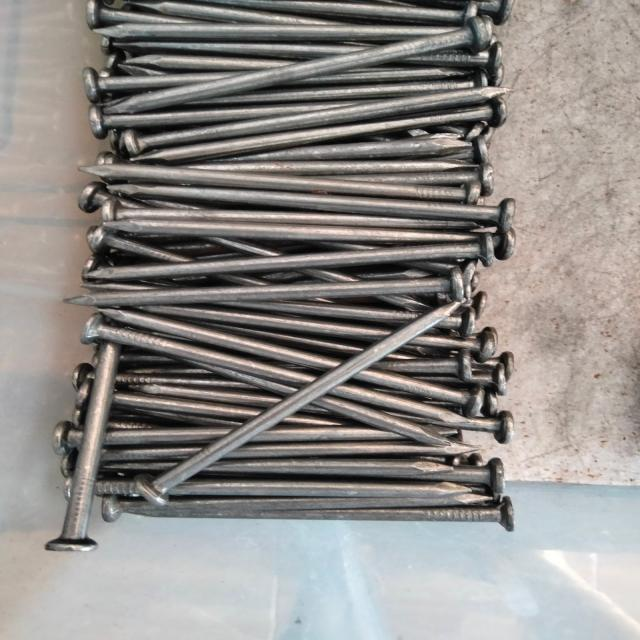3x8 nail: (126, 288, 482, 512), (74, 13, 507, 139), (65, 176, 532, 267)
